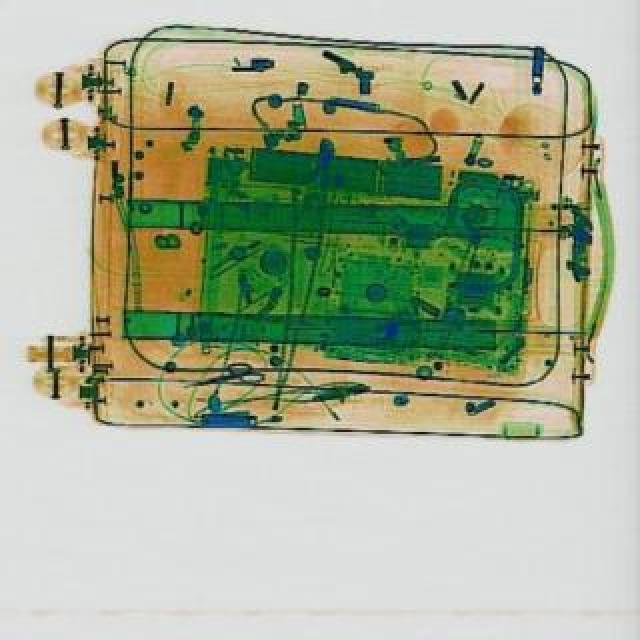pliers: (184, 354, 266, 398)
